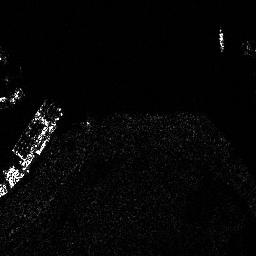ship: (218, 27, 226, 52)
